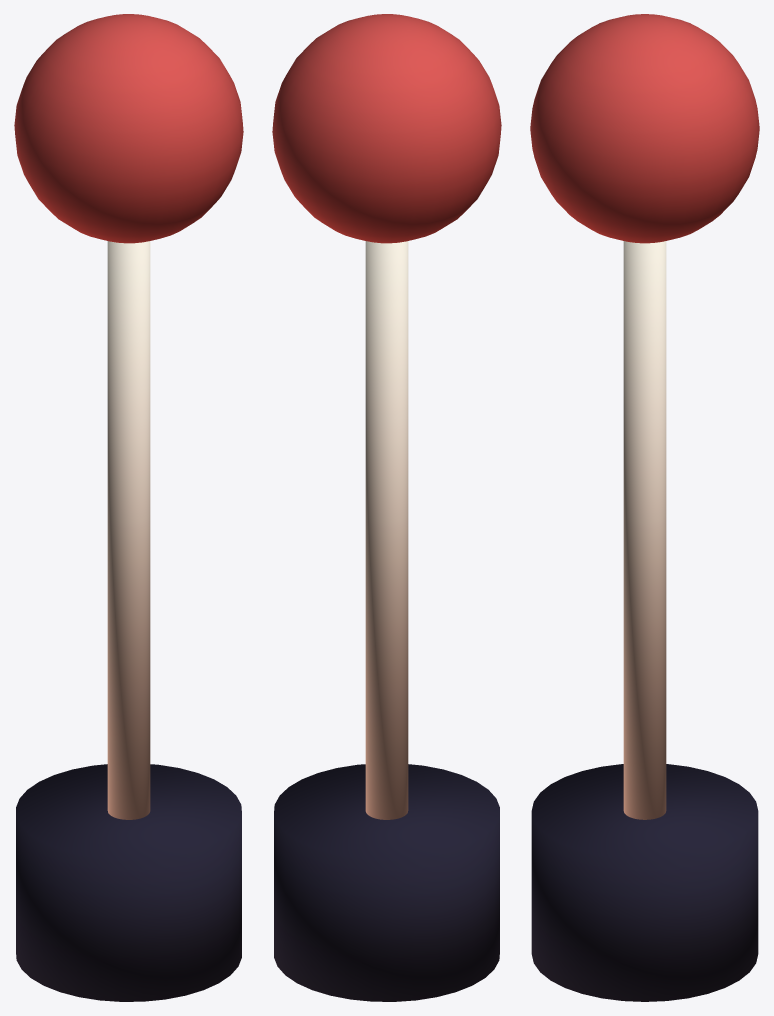
The model's file is Antenne.fbx.
3 views of the same model, side by side, from view 1: azimuth 30°, elevation 25°; view 2: azimuth 150°, elevation 25°; view 3: azimuth 270°, elevation 25° (orthographic).
Parts seen in each view (by area): view 1: Antenne; view 2: Antenne; view 3: Antenne.
Boxes of the visible parts, x1,y1,x2,y2 form: Antenne: [14, 14, 243, 1001]; Antenne: [272, 14, 501, 1001]; Antenne: [530, 14, 759, 1001].
Bounding box in the file's own units: 70.91 × 70.91 × 317.
